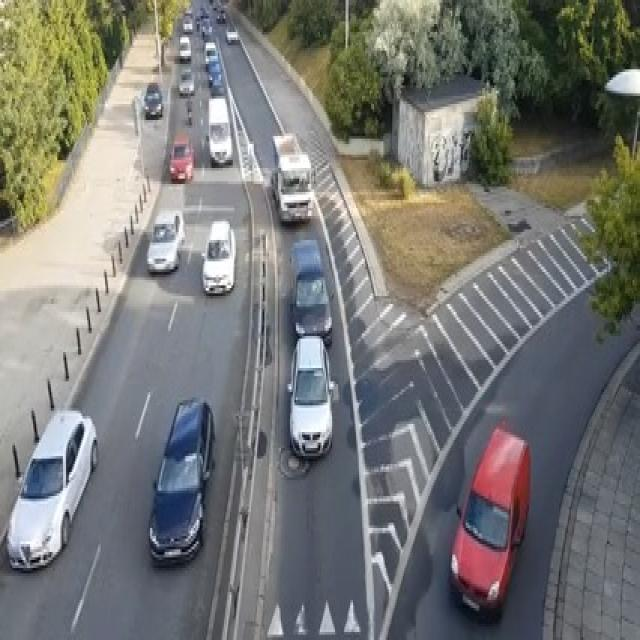car: (448, 424, 530, 616), (6, 408, 98, 571), (147, 395, 215, 565), (287, 333, 333, 459), (288, 237, 332, 344), (200, 219, 236, 293), (146, 208, 185, 272), (207, 96, 233, 165), (168, 134, 194, 182), (143, 80, 162, 117), (177, 67, 194, 96), (206, 56, 222, 85), (204, 40, 218, 69), (179, 35, 191, 61), (224, 21, 237, 43), (201, 19, 212, 37), (182, 13, 192, 32), (217, 8, 226, 21)
truck: (270, 131, 314, 224)
